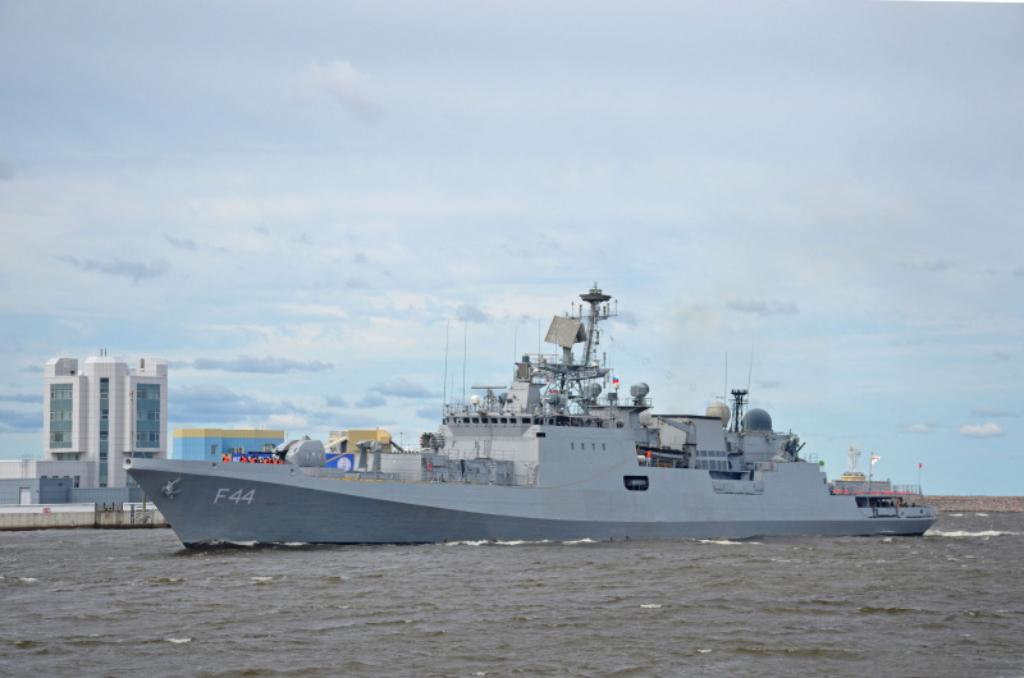Warship: (128, 284, 938, 554)
